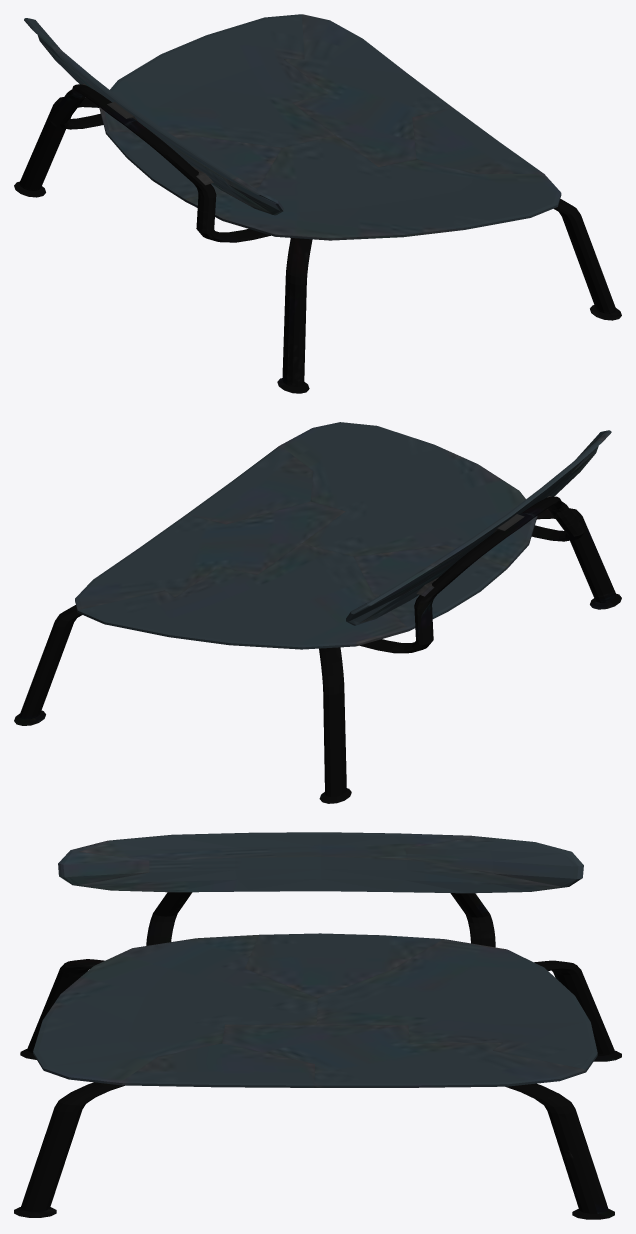
The model's file is chair_2.glb.
3 views of the same model, one above another, from view 1: azimuth 30°, elevation 25°; view 2: azimuth 150°, elevation 25°; view 3: azimuth 270°, elevation 25° (orthographic). The views are drawn at different scales.
Parts seen in each view (by area): view 1: chair_2; view 2: chair_2; view 3: chair_2.
Boxes of the visible parts, x1,y1,x2,y2 form: chair_2: [14, 14, 621, 393]; chair_2: [14, 422, 621, 803]; chair_2: [14, 832, 621, 1219].
Size of the model in its own units: 3.98 by 1.97 by 5.36.
1 material, 1 textured.
